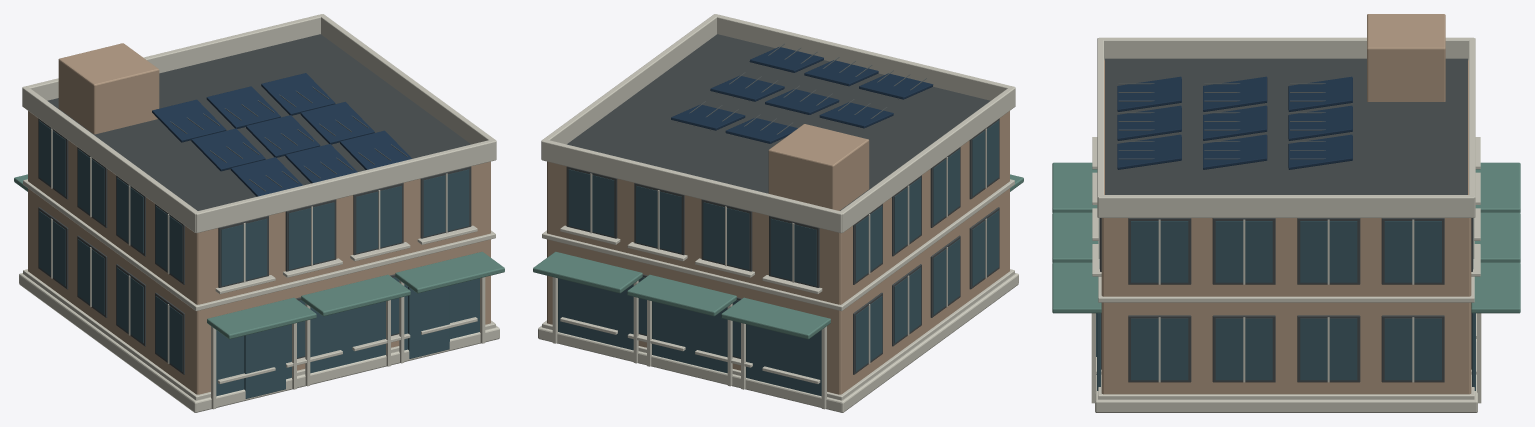
File: shops_low.glb
3 renders of one model, left to right at view 1: azimuth 30°, elevation 25°; view 2: azimuth 150°, elevation 25°; view 3: azimuth 270°, elevation 25°, orthographic. The views are drawn at different scales.
Parts seen in each view (by area): view 1: WindowGlassGeometry, ArchitecturalTrimGeometry, BuildingWallGeometry, RoofAndFrameGeometry, SolarCellsGeometry, AwningGeometry, RailMetalGeometry; view 2: ArchitecturalTrimGeometry, WindowGlassGeometry, RoofAndFrameGeometry, BuildingWallGeometry, SolarCellsGeometry, AwningGeometry, RailMetalGeometry; view 3: RoofAndFrameGeometry, BuildingWallGeometry, ArchitecturalTrimGeometry, WindowGlassGeometry, SolarCellsGeometry, AwningGeometry, RailMetalGeometry.
Part boxes in pixels (box(x1,y1,x2,y2)): WindowGlassGeometry: box(39, 120, 479, 398); ArchitecturalTrimGeometry: box(19, 14, 499, 412); BuildingWallGeometry: box(28, 43, 490, 394); RoofAndFrameGeometry: box(38, 34, 471, 374); SolarCellsGeometry: box(152, 73, 411, 196); AwningGeometry: box(14, 174, 504, 339); RailMetalGeometry: box(170, 86, 407, 191); ArchitecturalTrimGeometry: box(538, 14, 1018, 412); WindowGlassGeometry: box(558, 120, 998, 396); RoofAndFrameGeometry: box(566, 34, 999, 374); BuildingWallGeometry: box(547, 111, 1009, 394); SolarCellsGeometry: box(671, 47, 933, 143); AwningGeometry: box(533, 174, 1023, 339); RailMetalGeometry: box(677, 43, 926, 143); RoofAndFrameGeometry: box(1100, 58, 1472, 382); BuildingWallGeometry: box(1101, 14, 1471, 394); ArchitecturalTrimGeometry: box(1091, 37, 1481, 412); WindowGlassGeometry: box(1096, 218, 1475, 390); SolarCellsGeometry: box(1117, 76, 1352, 169); AwningGeometry: box(1052, 162, 1520, 313); RailMetalGeometry: box(1118, 83, 1325, 159).
Size of the model in its own units: 11.2 by 8.1 by 13.68.
